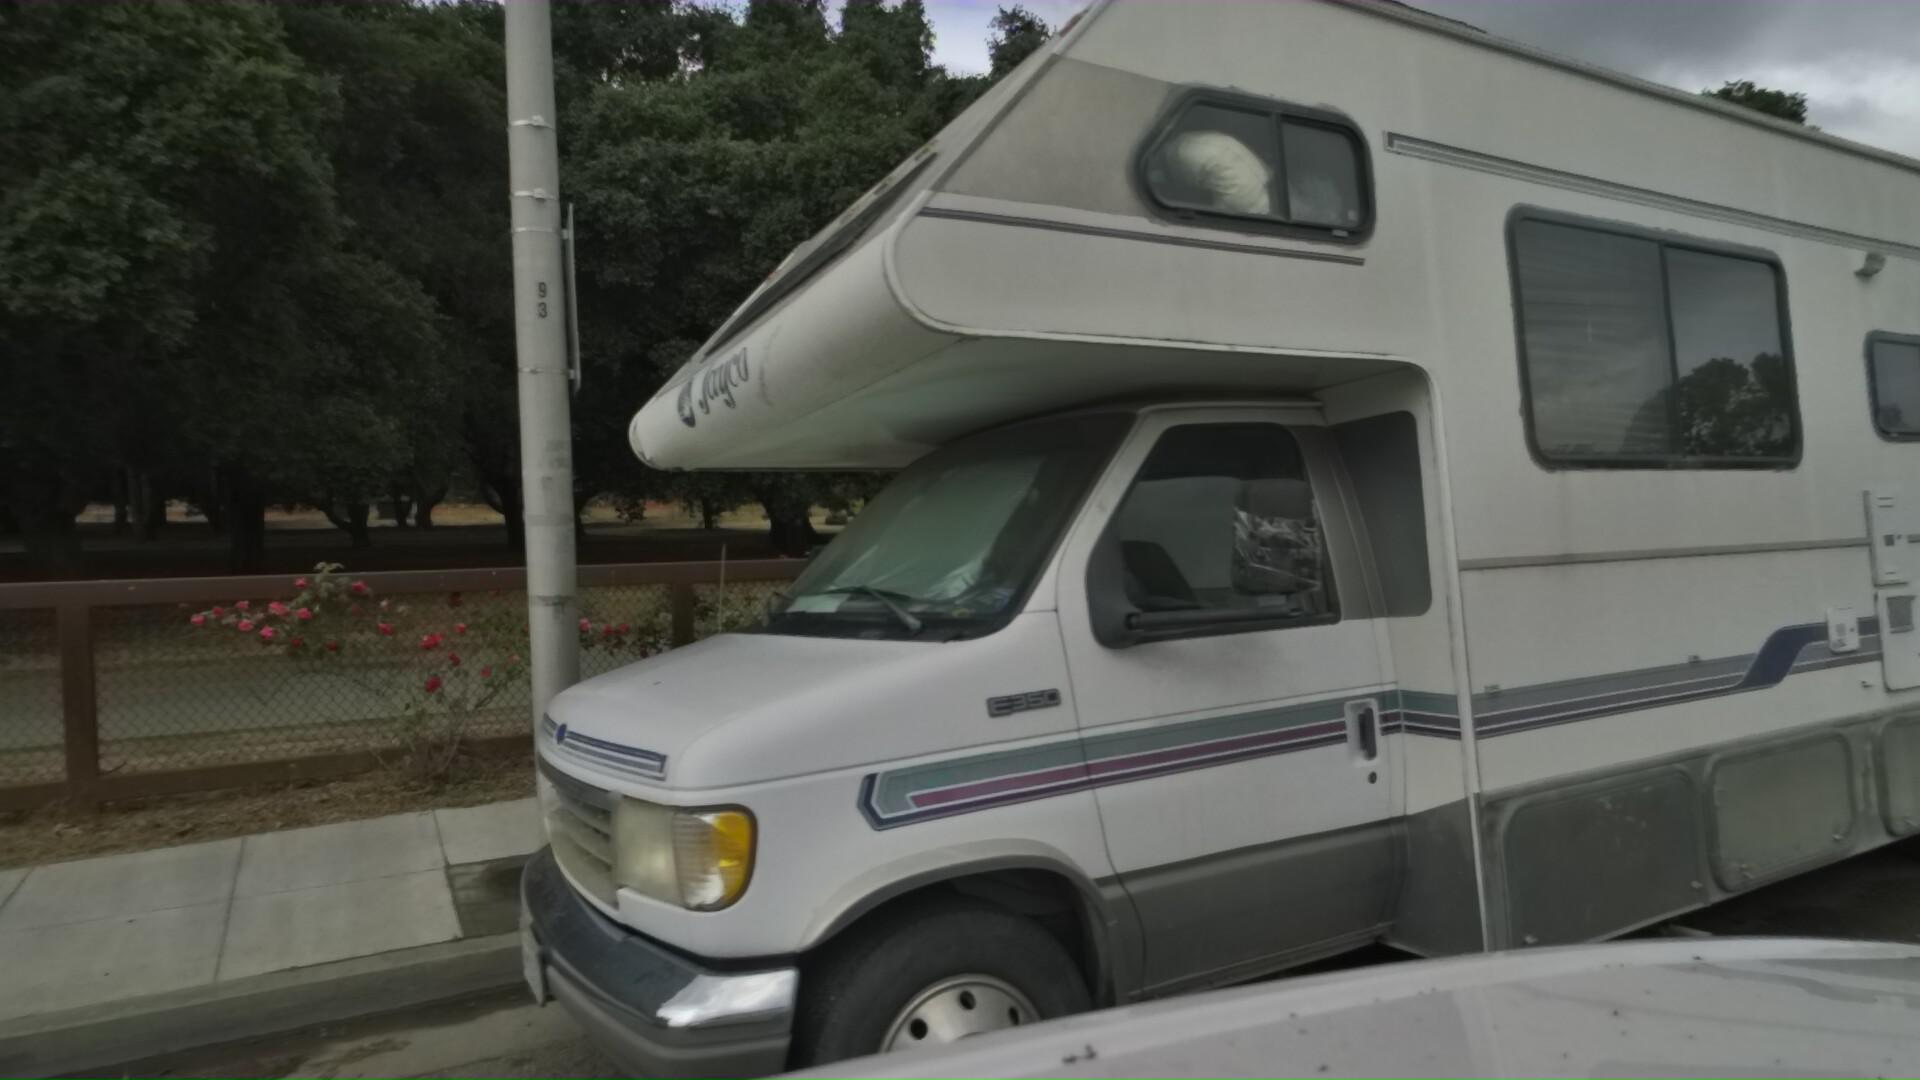other_vehicle: (535, 0, 1920, 1080)
